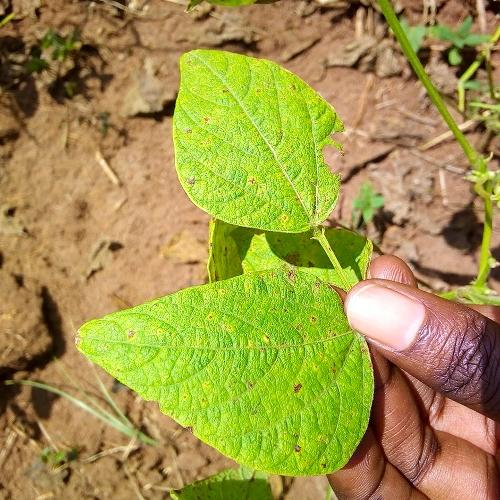mozaik: (174, 50, 346, 229)
